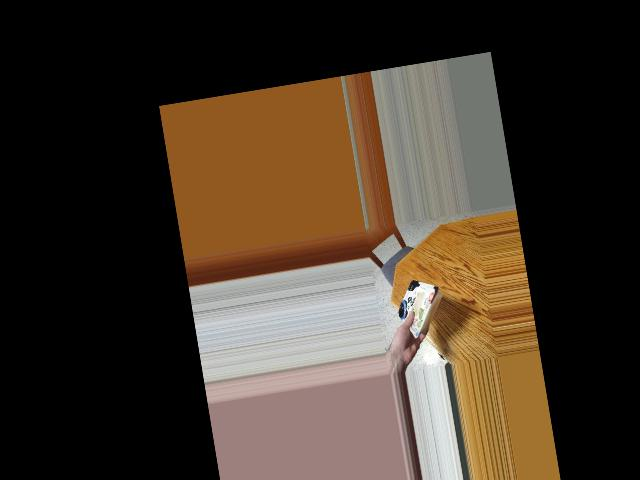cheese: (391, 271, 456, 336)
